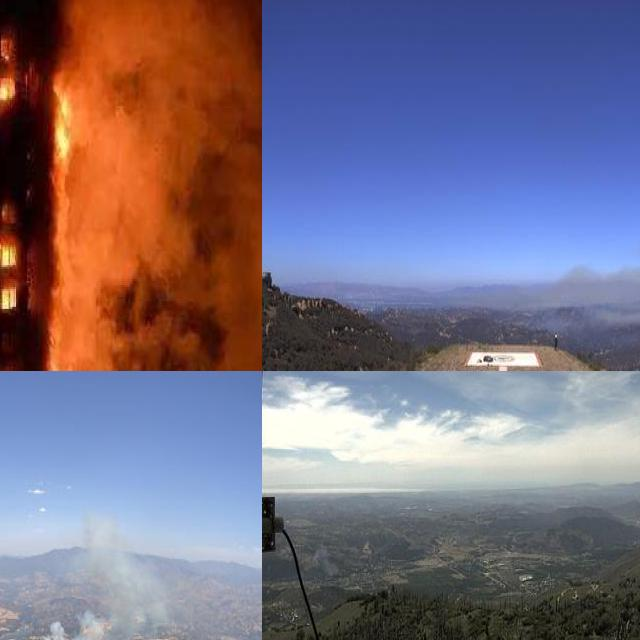fire: (0, 32, 73, 371)
smoke: (58, 0, 262, 371), (8, 515, 172, 640), (556, 244, 640, 340), (292, 544, 342, 581)
